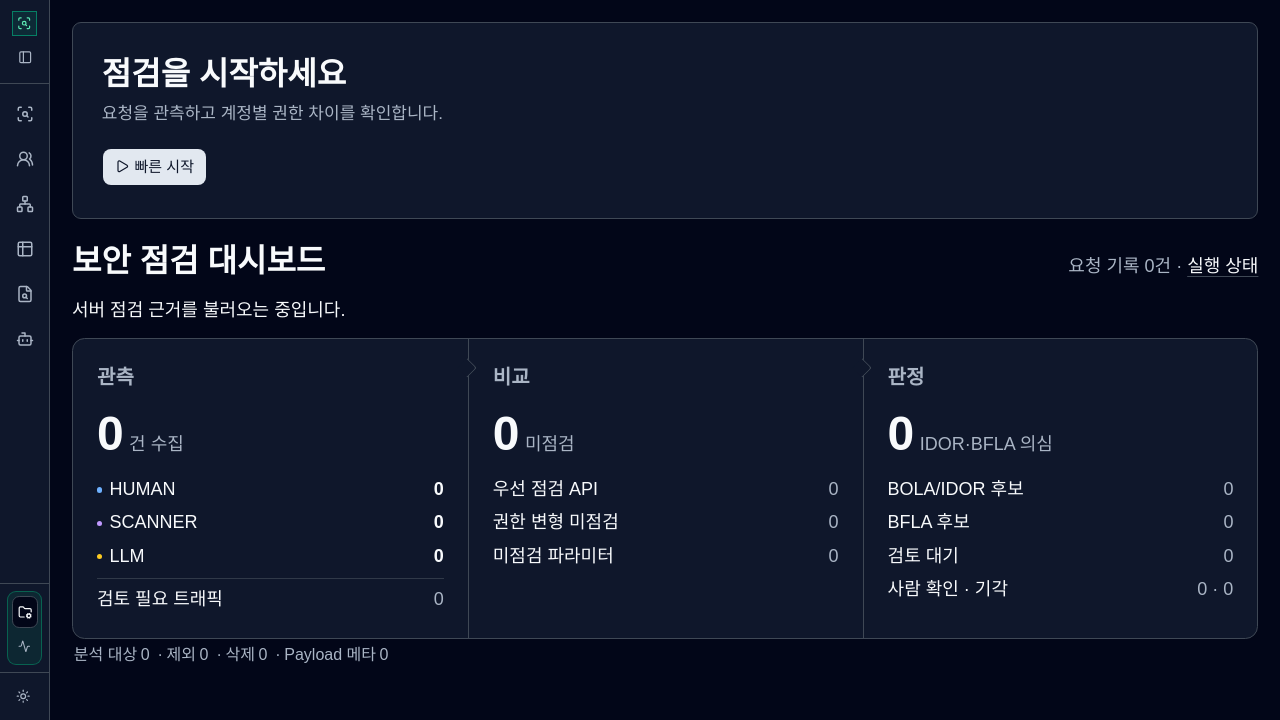
dashboard shell › shows both terminal-unavailable and still-pending live-status query states
Click the button named "실시간 상태" at {"x": 25, "y": 646}, box [12,632,38,660]
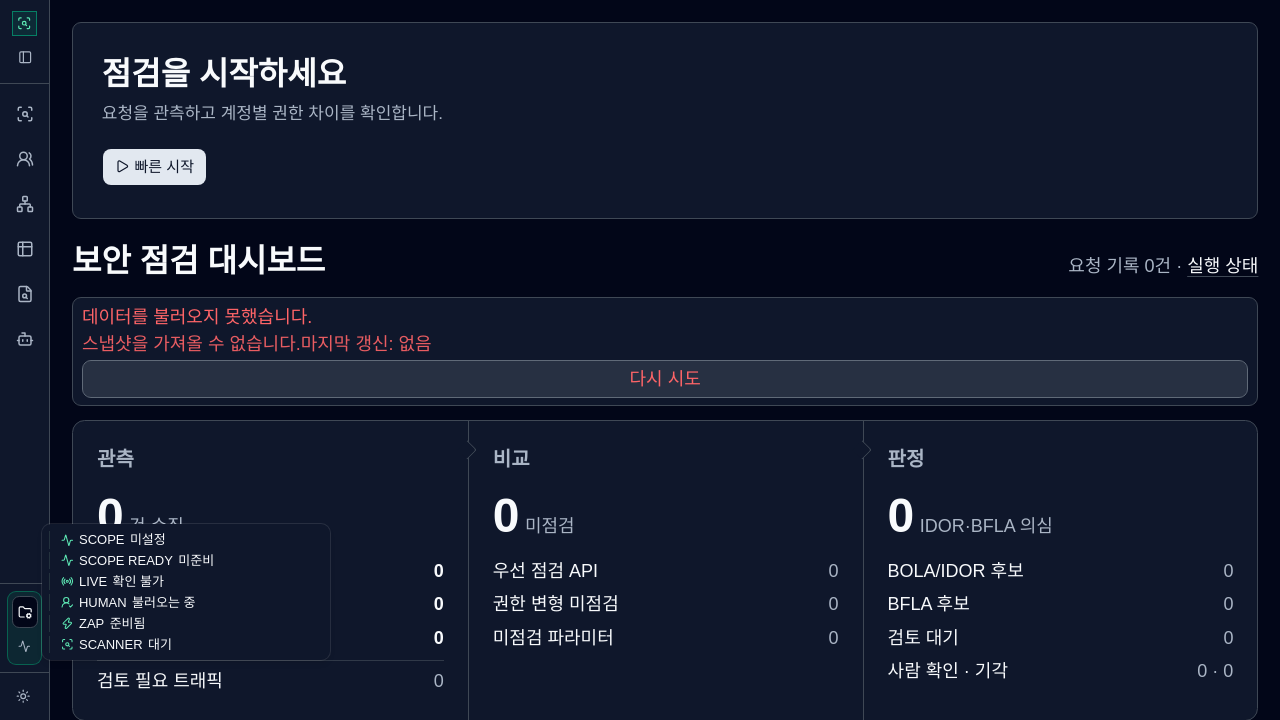
Check: the element named "LIVE 상태" shows "확인 불가", box [112,574,164,589]
Check: the element named "HUMAN 상태" shows "불러오는 중", box [132,595,195,610]
